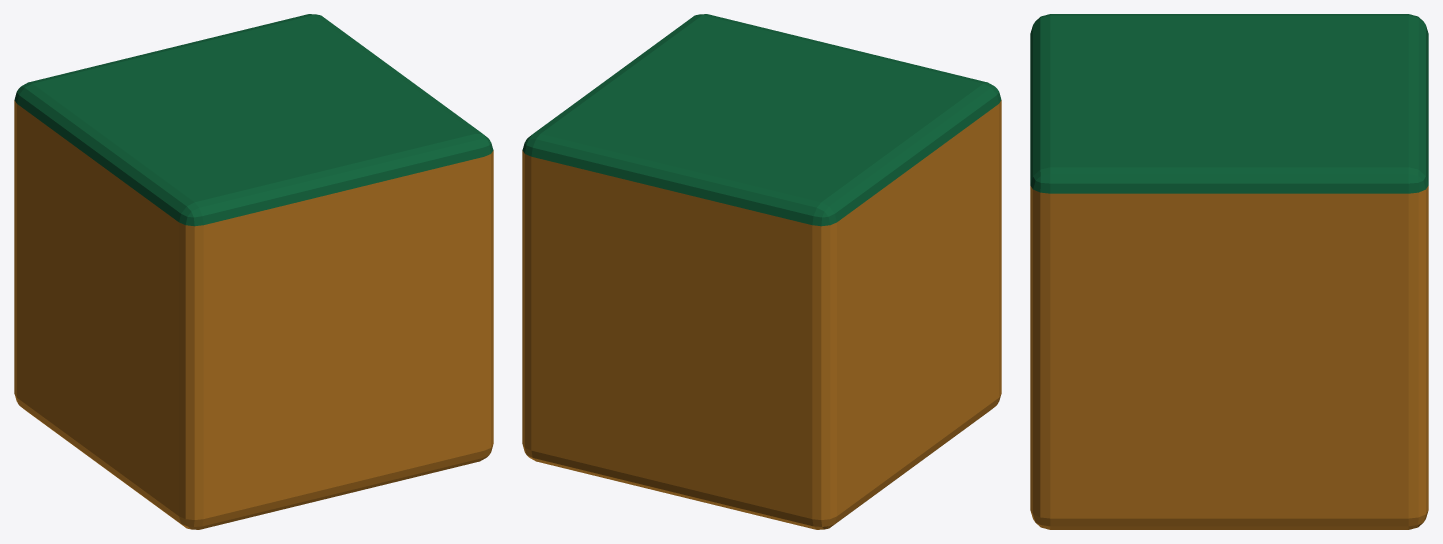
File: Terrain.fbx
The picture shows the model from 3 angles, left to right: view 1: azimuth 30°, elevation 25°; view 2: azimuth 150°, elevation 25°; view 3: azimuth 270°, elevation 25°; orthographic projection. The views are drawn at different scales.
Parts seen in each view (by area): view 1: Cube; view 2: Cube; view 3: Cube.
Boxes of the visible parts, bbox=[...] form: Cube: bbox=[14, 14, 493, 529]; Cube: bbox=[522, 14, 1001, 529]; Cube: bbox=[1030, 14, 1428, 529].
Size of the model in its own units: 911 by 911 by 911.
1 material, 1 textured.
